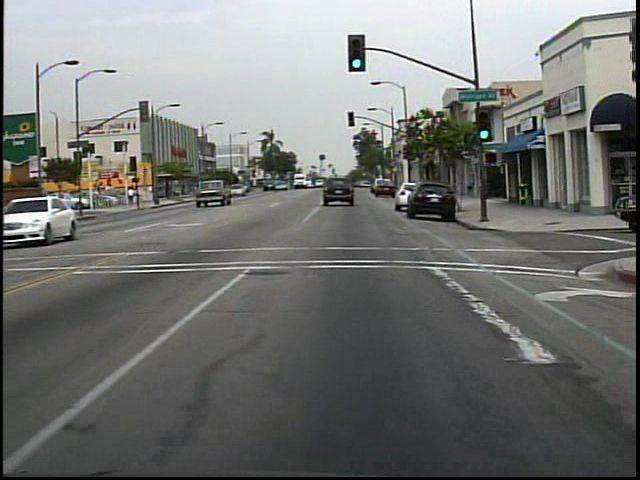person: (127, 183, 136, 206)
